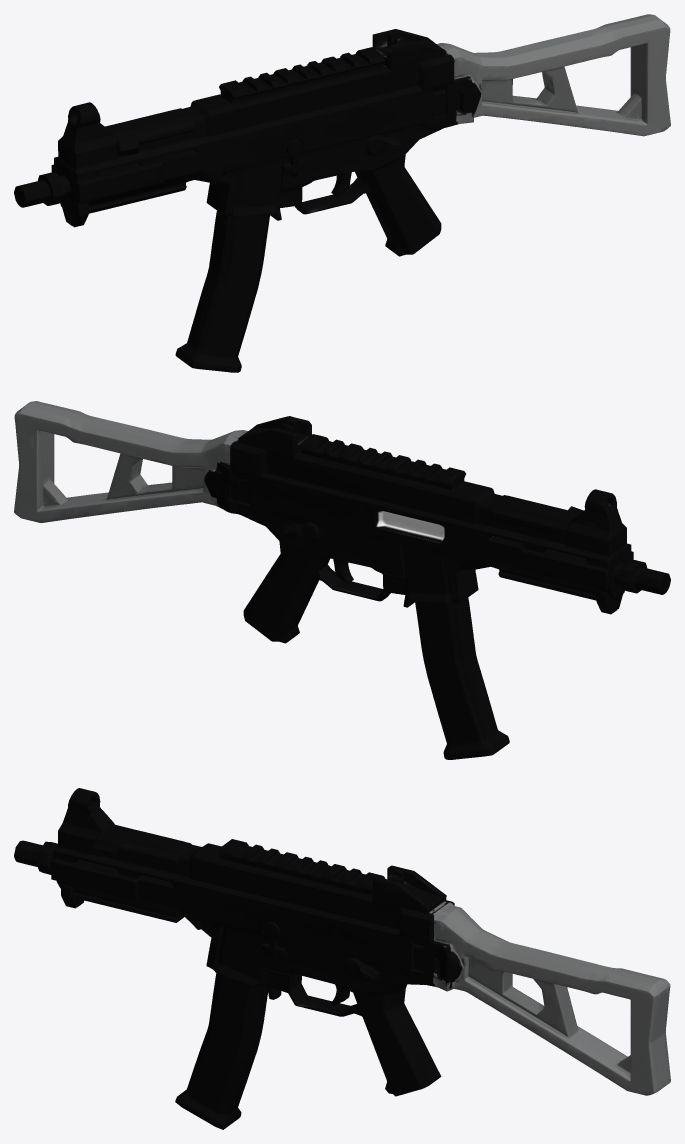
File: smg.glb
3 views of the same model, one above another, from view 1: azimuth 30°, elevation 25°; view 2: azimuth 150°, elevation 25°; view 3: azimuth 330°, elevation 25° (orthographic).
Parts seen in each view (by area): view 1: node_0; view 2: node_0; view 3: node_0.
Part boxes in pixels (bbox=[...]): node_0: bbox=[14, 14, 670, 372]; node_0: bbox=[14, 401, 670, 759]; node_0: bbox=[14, 788, 670, 1129].
Bounding box in the file's own units: 1.16 × 0.5121 × 0.0899.
Materials: 1 (1 with a texture image).
